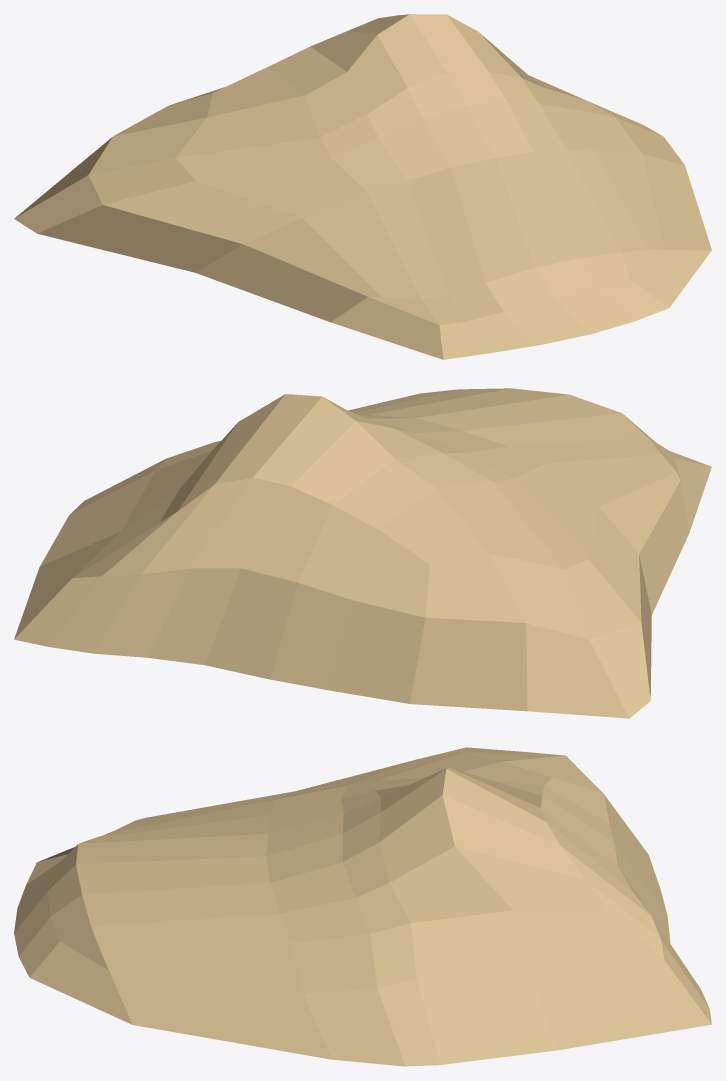
File: Sand_1.fbx
3 renders of one model, top to bottom at view 1: azimuth 30°, elevation 25°; view 2: azimuth 150°, elevation 25°; view 3: azimuth 270°, elevation 25°, orthographic. The views are drawn at different scales.
Parts seen in each view (by area): view 1: Sand_1_low; view 2: Sand_1_low; view 3: Sand_1_low.
Part boxes in pixels (x1=…): Sand_1_low: x1=14, y1=14, x2=711, y2=359; Sand_1_low: x1=14, y1=388, x2=711, y2=718; Sand_1_low: x1=14, y1=747, x2=711, y2=1066.
Bounding box in the file's own units: 0.5899 × 0.1635 × 0.5876.
